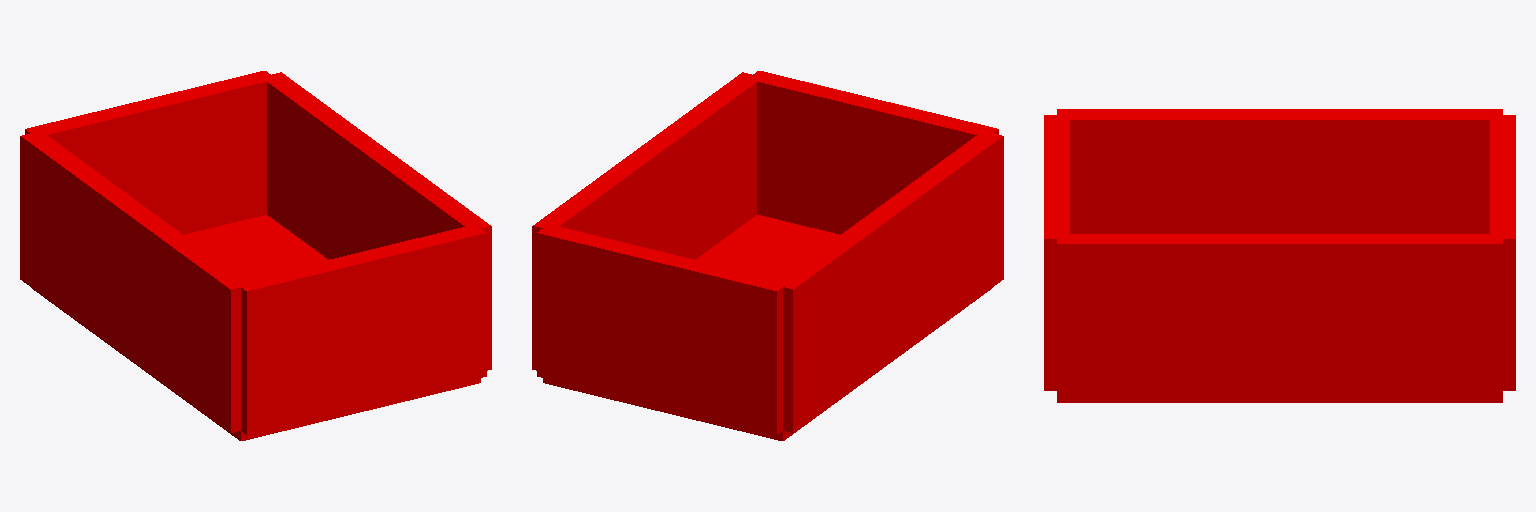
The robot description file, URDF, robot "order_bin":
<?xml version="1.0" ?>
<!-- =================================================================================== -->
<!-- |    This document was autogenerated by xacro from order_bin.xacro                | -->
<!-- |    EDITING THIS FILE BY HAND IS NOT RECOMMENDED                                 | -->
<!-- =================================================================================== -->
<robot name="order_bin" xmlns:xacro="http://ros.org/wiki/xacro">
  <material name="red">
    <color rgba="1 0 0 1"/>
  </material>
  <link name="order_bin_base">
    <visual>
      <origin rpy="0 0 0" xyz="0 0 0"/>
      <geometry>
        <box size="0.35 0.53      .03"/>
      </geometry>
      <material name="red"/>
    </visual>
    <collision>
      <origin rpy="0 0 0" xyz="0 0 0"/>
      <geometry>
        <box size="0.35 0.53      .03"/>
      </geometry>
      <material name="red"/>
    </collision>
    <inertial>
      <mass value="0.08"/>
      <inertia ixx="1e-4" ixy="0" ixz="0" iyy="1e-4" iyz="0" izz="1e-4"/>
    </inertial>
  </link>
  <gazebo reference="order_bin_base">
    <material>Gazebo/Red</material>
  </gazebo>
  <joint name="base_to_x_part0" type="fixed">
    <origin rpy="0 0 0" xyz="-0.175 0 0.1"/>
    <parent link="order_bin_base"/>
    <child link="order_bin_x_part0"/>
  </joint>
  <link name="order_bin_x_part0">
    <visual>
      <origin rpy="0 0 0" xyz="0 0 0"/>
      <geometry>
        <box size="      .03 0.53 0.2"/>
      </geometry>
      <material name="red"/>
    </visual>
    <collision>
      <origin rpy="0 0 0" xyz="0 0 0"/>
      <geometry>
        <box size="      .03 0.53 0.2"/>
      </geometry>
      <material name="red"/>
    </collision>
    <inertial>
      <mass value="0.08"/>
      <inertia ixx="1e-4" ixy="0" ixz="0" iyy="1e-4" iyz="0" izz="1e-4"/>
    </inertial>
  </link>
  <gazebo reference="order_bin_x_part0">
    <material>Gazebo/Red</material>
  </gazebo>
  <joint name="base_to_x_part1" type="fixed">
    <origin rpy="0 0 0" xyz="0.175 0 0.1"/>
    <parent link="order_bin_base"/>
    <child link="order_bin_x_part1"/>
  </joint>
  <link name="order_bin_x_part1">
    <visual>
      <origin rpy="0 0 0" xyz="0 0 0"/>
      <geometry>
        <box size="      .03 0.53 0.2"/>
      </geometry>
      <material name="red"/>
    </visual>
    <collision>
      <origin rpy="0 0 0" xyz="0 0 0"/>
      <geometry>
        <box size="      .03 0.53 0.2"/>
      </geometry>
      <material name="red"/>
    </collision>
    <inertial>
      <mass value="0.08"/>
      <inertia ixx="1e-4" ixy="0" ixz="0" iyy="1e-4" iyz="0" izz="1e-4"/>
    </inertial>
  </link>
  <gazebo reference="order_bin_x_part1">
    <material>Gazebo/Red</material>
  </gazebo>
  <joint name="base_to_y_part0" type="fixed">
    <origin rpy="0 0 0" xyz="0 -0.265 0.1"/>
    <parent link="order_bin_base"/>
    <child link="order_bin_y_part0"/>
  </joint>
  <link name="order_bin_y_part0">
    <visual>
      <origin rpy="0 0 0" xyz="0 0 0"/>
      <geometry>
        <box size="0.35       .03 0.2"/>
      </geometry>
      <material name="red"/>
    </visual>
    <collision>
      <origin rpy="0 0 0" xyz="0 0 0"/>
      <geometry>
        <box size="0.35       .03 0.2"/>
      </geometry>
      <material name="red"/>
    </collision>
    <inertial>
      <mass value="0.08"/>
      <inertia ixx="1e-4" ixy="0" ixz="0" iyy="1e-4" iyz="0" izz="1e-4"/>
    </inertial>
  </link>
  <gazebo reference="order_bin_y_part0">
    <material>Gazebo/Red</material>
  </gazebo>
  <joint name="base_to_y_part1" type="fixed">
    <origin rpy="0 0 0" xyz="0 0.265 0.1"/>
    <parent link="order_bin_base"/>
    <child link="order_bin_y_part1"/>
  </joint>
  <link name="order_bin_y_part1">
    <visual>
      <origin rpy="0 0 0" xyz="0 0 0"/>
      <geometry>
        <box size="0.35       .03 0.2"/>
      </geometry>
      <material name="red"/>
    </visual>
    <collision>
      <origin rpy="0 0 0" xyz="0 0 0"/>
      <geometry>
        <box size="0.35       .03 0.2"/>
      </geometry>
      <material name="red"/>
    </collision>
    <inertial>
      <mass value="0.08"/>
      <inertia ixx="1e-4" ixy="0" ixz="0" iyy="1e-4" iyz="0" izz="1e-4"/>
    </inertial>
  </link>
  <gazebo reference="order_bin_y_part1">
    <material>Gazebo/Red</material>
  </gazebo>
</robot>

--- Facts derived from the render (not from the file) ---
The picture shows the robot from 3 angles, left to right: view 1: azimuth 30°, elevation 25°; view 2: azimuth 150°, elevation 25°; view 3: azimuth 270°, elevation 25°; orthographic projection.
Model order_bin with 5 links and 4 joints (4 fixed), rooted at order_bin_base, posed every joint at zero.
Links seen in each view (by area): view 1: order_bin_y_part0, order_bin_x_part0, order_bin_y_part1, order_bin_x_part1, order_bin_base; view 2: order_bin_y_part1, order_bin_x_part0, order_bin_y_part0, order_bin_x_part1, order_bin_base; view 3: order_bin_x_part1, order_bin_x_part0, order_bin_y_part0, order_bin_y_part1, order_bin_base.
Boxes of the visible links, left/top/right/bottom form: order_bin_y_part0: left=236, top=225, right=486, bottom=434; order_bin_x_part0: left=20, top=132, right=250, bottom=432; order_bin_y_part1: left=25, top=71, right=275, bottom=234; order_bin_x_part1: left=267, top=72, right=491, bottom=370; order_bin_base: left=32, top=215, right=480, bottom=440; order_bin_y_part1: left=537, top=224, right=782, bottom=434; order_bin_x_part0: left=773, top=131, right=1003, bottom=432; order_bin_y_part0: left=749, top=71, right=998, bottom=234; order_bin_x_part1: left=532, top=72, right=759, bottom=370; order_bin_base: left=543, top=215, right=991, bottom=440; order_bin_x_part1: left=1057, top=234, right=1502, bottom=396; order_bin_x_part0: left=1057, top=109, right=1502, bottom=233; order_bin_y_part0: left=1044, top=115, right=1069, bottom=390; order_bin_y_part1: left=1490, top=115, right=1515, bottom=390; order_bin_base: left=1057, top=397, right=1502, bottom=402.
Size in the robot's own frame: 0.38 by 0.56 by 0.215 metres.
Geometry: primitives only (box / cylinder / sphere), no mesh files.